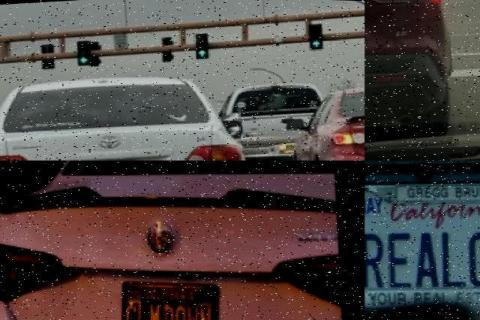LicensePlate: (364, 166, 480, 320), (119, 273, 230, 320)
